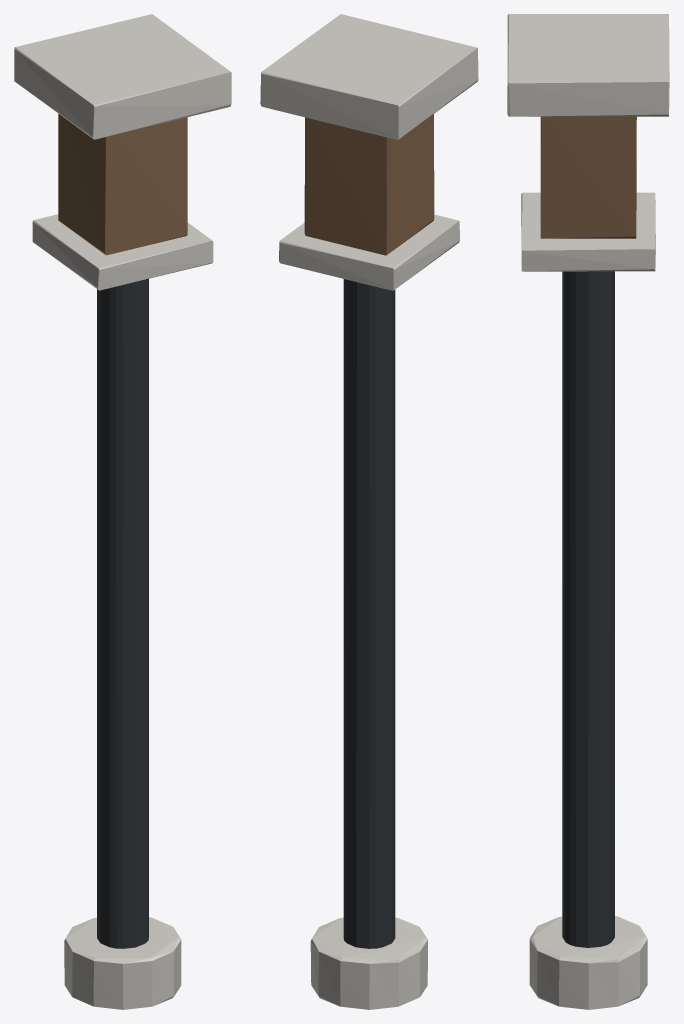
The model's file is SM_Kit_Prop_LampPost_LOD2.glb.
3 renders of one model, left to right at view 1: azimuth 30°, elevation 25°; view 2: azimuth 150°, elevation 25°; view 3: azimuth 270°, elevation 25°, orthographic.
Parts seen in each view (by area): view 1: SM_Kit_Prop_LampPost_LOD2; view 2: SM_Kit_Prop_LampPost_LOD2; view 3: SM_Kit_Prop_LampPost_LOD2.
Part boxes in pixels (x1,y1,x2,y2): SM_Kit_Prop_LampPost_LOD2: (14, 14, 231, 1009); SM_Kit_Prop_LampPost_LOD2: (260, 14, 478, 1009); SM_Kit_Prop_LampPost_LOD2: (507, 14, 669, 1009).
Bounding box in the file's own units: 0.5961 × 3.8 × 0.5949.
